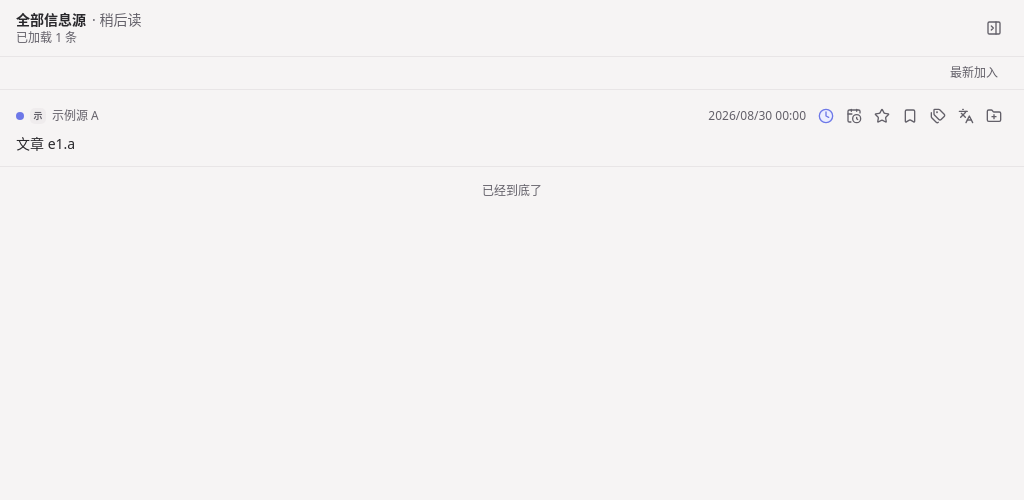
Test: 稍后读 toggle（mutation：乐观 + 失败回滚 + 诚实错误） › 移除：行立即消失（乐观），服务端收到 DELETE
Expected: the button "文章 e1.a" is shown, left=16, top=134, right=1008, bottom=154
// Clock 激活态来自 refs 清单（异步到达）——等它翻到「已加入」再点击
Click the button named "从稍后读移除" at (826, 116), box left=812, top=102, right=840, bottom=130
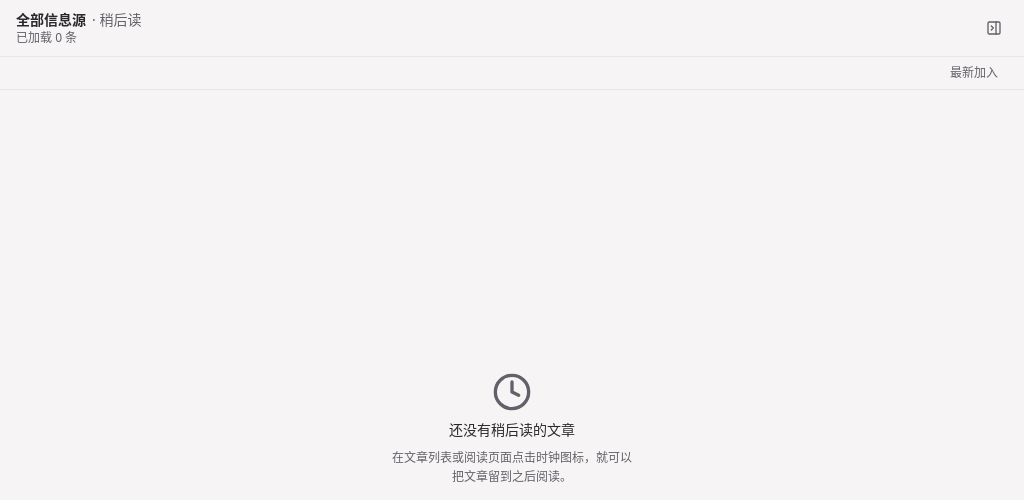
Expected: no buttons "文章 e1.a" are shown
